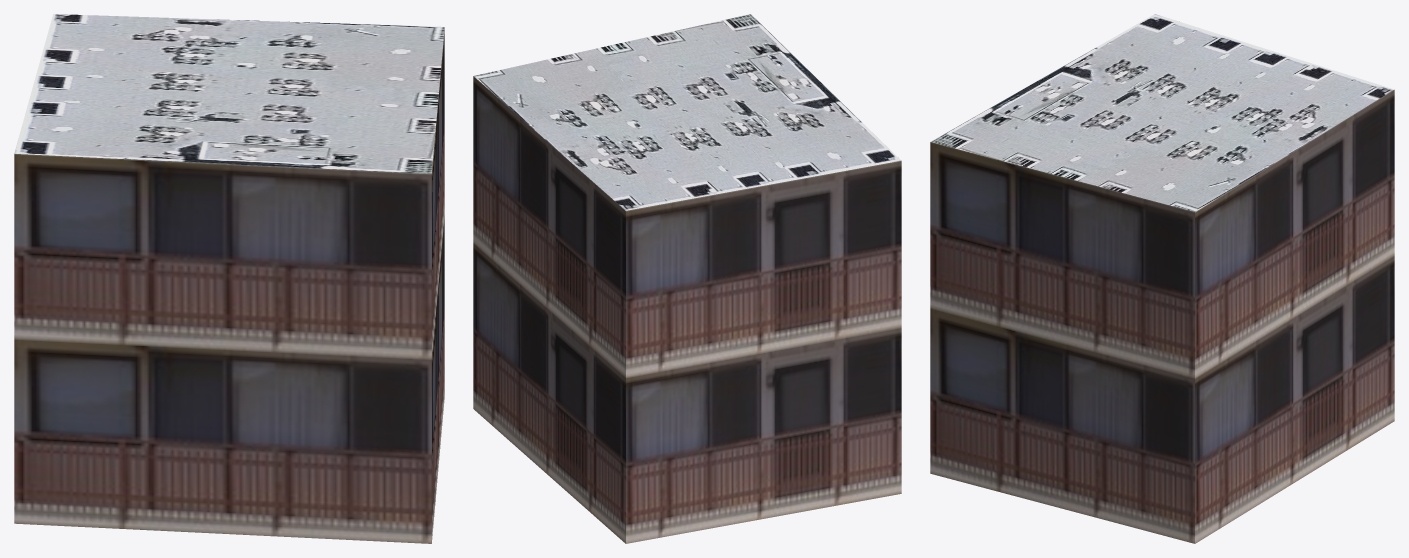
Rendered from ResTex__686.fbx.
3 renders of one model, left to right at view 1: azimuth 30°, elevation 25°; view 2: azimuth 150°, elevation 25°; view 3: azimuth 270°, elevation 25°, orthographic. The views are drawn at different scales.
Visible parts, largest first — view 1: CityEngineMaterial_6_m, CityEngineMaterial_4_m; view 2: CityEngineMaterial_6_m, CityEngineMaterial_4_m; view 3: CityEngineMaterial_6_m, CityEngineMaterial_4_m.
Part boxes in pixels (left/top/right/bottom): CityEngineMaterial_6_m: left=14, top=30, right=444, bottom=543; CityEngineMaterial_4_m: left=14, top=14, right=444, bottom=173; CityEngineMaterial_6_m: left=473, top=76, right=901, bottom=543; CityEngineMaterial_4_m: left=474, top=14, right=900, bottom=210; CityEngineMaterial_6_m: left=930, top=89, right=1394, bottom=543; CityEngineMaterial_4_m: left=931, top=14, right=1393, bottom=211.
Bounding box in the file's own units: 7.69 × 6 × 7.61.
Materials: 2 (2 with a texture image).
